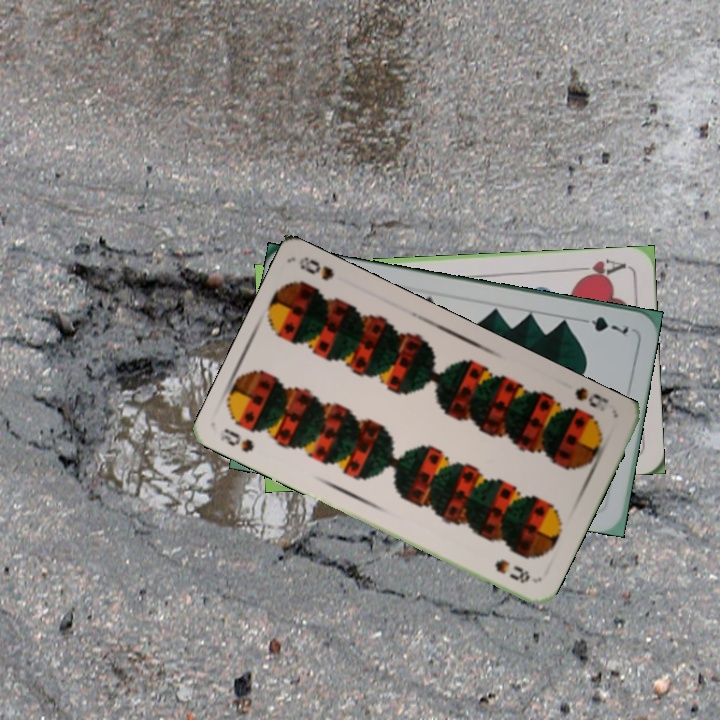G7: (574, 312, 631, 337)
HA: (570, 254, 629, 283)
S8: (216, 424, 257, 455), (571, 383, 612, 411)
